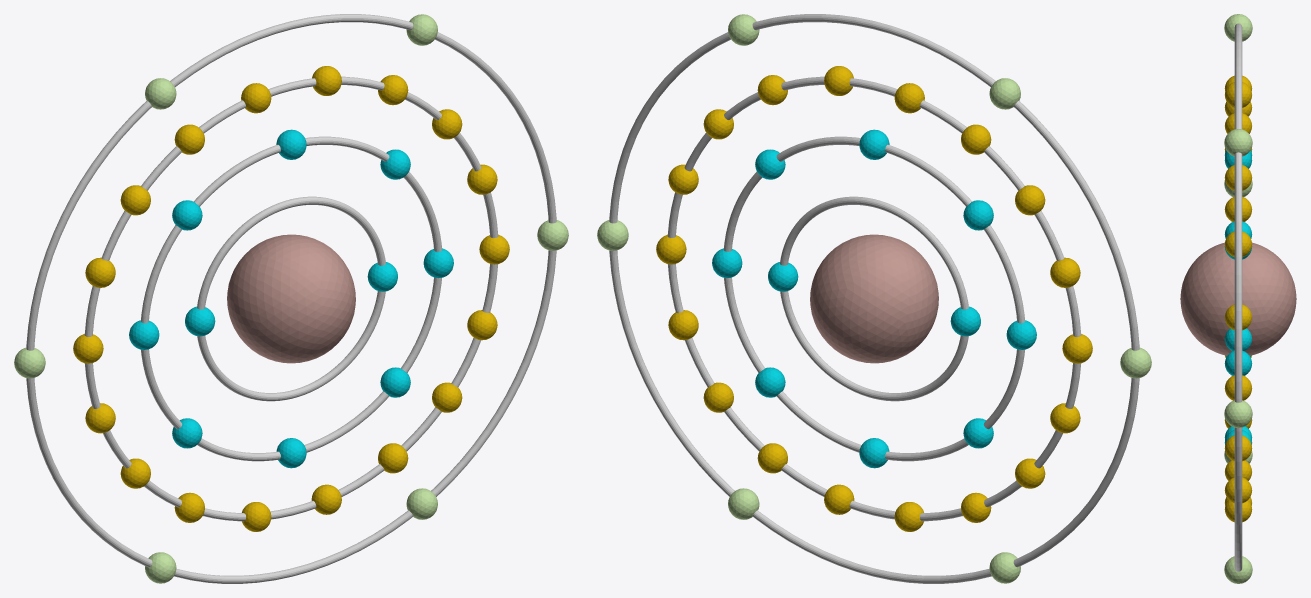
3 views of the same model, side by side, from view 1: azimuth 30°, elevation 25°; view 2: azimuth 150°, elevation 25°; view 3: azimuth 270°, elevation 25° (orthographic). The views are drawn at different scales.
Parts seen in each view (by area): view 1: Camada_4, Nucleo_Se, Camada_3, Camada_2, Camada_1, e4_3, e4_6, e4_4, e4_1, e4_2, e4_5, e2_4 (+27 smaller); view 2: Camada_4, Nucleo_Se, Camada_3, Camada_2, Camada_1, e4_3, e4_6, e4_4, e4_1, e4_2, e4_5, e2_4 (+27 smaller); view 3: Nucleo_Se, Camada_4, e4_1, e4_2, e4_6, e4_3, e3_2, e3_1, e3_3, e3_17, e3_18, e3_10 (+10 smaller).
Boxes of the visible parts, x1,y1,x2,y2 form: Camada_4: (26, 14, 556, 583); Nucleo_Se: (227, 234, 355, 363); Camada_3: (84, 76, 498, 521); Camada_2: (140, 136, 442, 461); Camada_1: (197, 196, 385, 401); e4_3: (145, 78, 176, 109); e4_6: (406, 488, 437, 519); e4_4: (14, 347, 45, 378); e4_1: (537, 220, 568, 250); e4_2: (406, 14, 437, 45); e4_5: (145, 552, 176, 583); e2_4: (172, 200, 202, 230); Camada_4: (609, 14, 1139, 583); Nucleo_Se: (810, 234, 938, 363); Camada_3: (667, 76, 1081, 521); Camada_2: (723, 136, 1025, 461); Camada_1: (780, 196, 968, 401); e4_3: (989, 78, 1020, 109); e4_6: (728, 488, 759, 519); e4_4: (1120, 347, 1151, 378); e4_1: (597, 220, 628, 250); e4_2: (728, 14, 759, 45); e4_5: (989, 552, 1020, 583); e2_4: (963, 200, 993, 230); Nucleo_Se: (1180, 242, 1296, 355); Camada_4: (1234, 23, 1242, 571); e4_1: (1224, 400, 1252, 427); e4_2: (1224, 129, 1252, 156); e4_6: (1224, 556, 1252, 583); e4_3: (1224, 14, 1252, 41); e3_2: (1224, 304, 1252, 330); e3_1: (1224, 375, 1252, 400); e3_3: (1224, 231, 1252, 257); e3_17: (1224, 477, 1252, 503); e3_18: (1224, 435, 1252, 461); e3_10: (1224, 196, 1252, 221).
Size of the model in its own units: 2.17 by 2.09 by 0.44.
